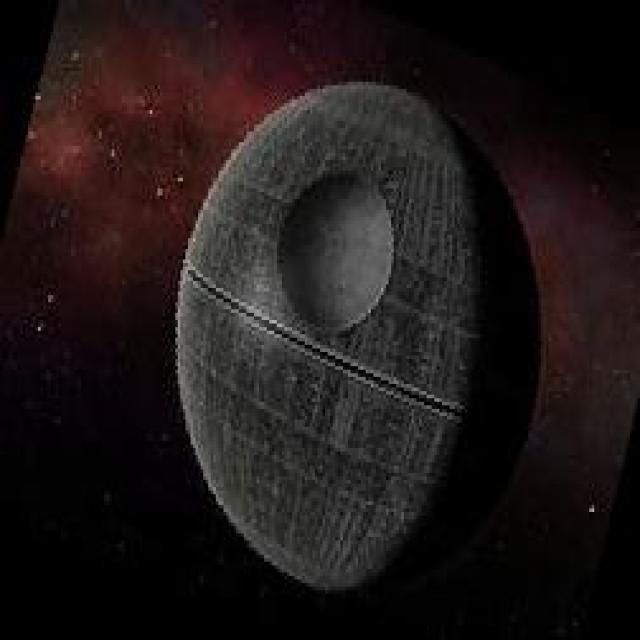Death Star: (168, 74, 492, 594)
